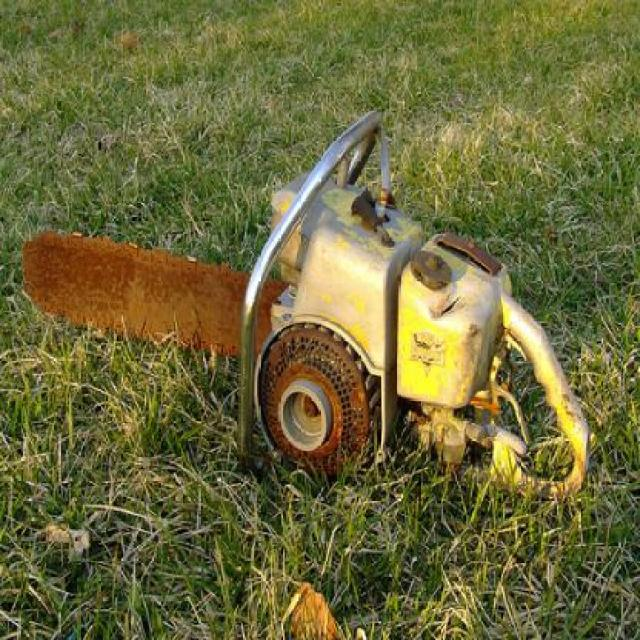Chainsaw: (23, 101, 594, 510)
